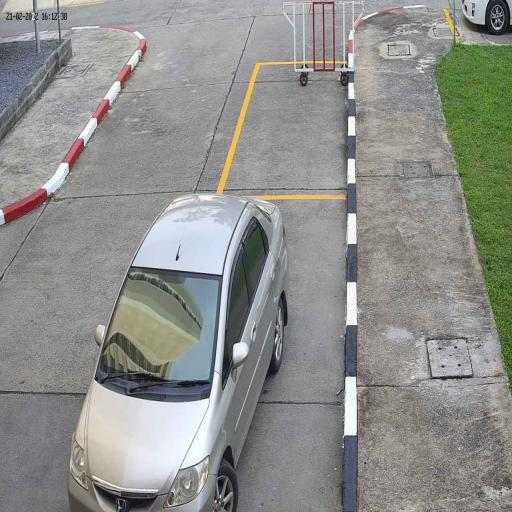car: (66, 191, 292, 512)
